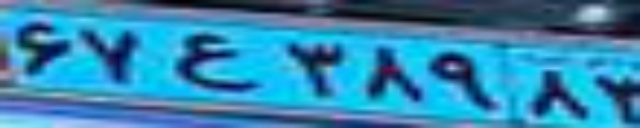3: (284, 39, 345, 97), (591, 76, 639, 123)
6: (10, 20, 71, 76)
7: (78, 26, 143, 83)
8: (360, 43, 423, 101), (526, 68, 592, 119)
9: (431, 50, 498, 110)
ain: (170, 31, 257, 92)
